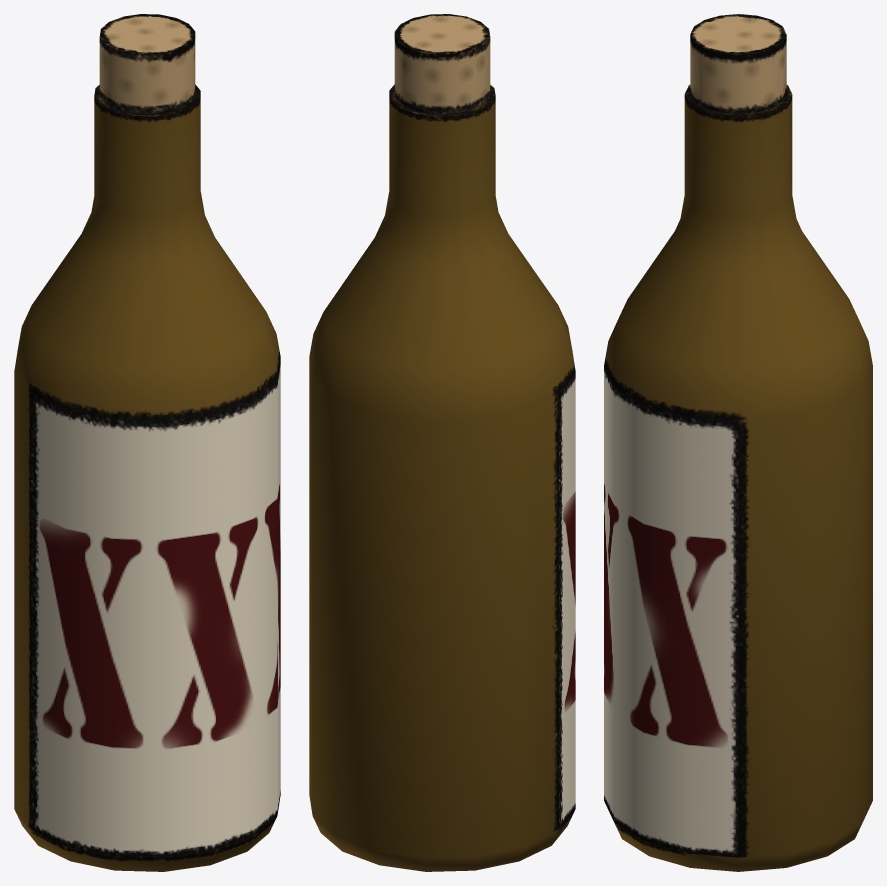
Rendered from bottle.fbx.
The picture shows the model from 3 angles, left to right: view 1: azimuth 30°, elevation 25°; view 2: azimuth 150°, elevation 25°; view 3: azimuth 270°, elevation 25°; orthographic projection.
Parts seen in each view (by area): view 1: bottle; view 2: bottle; view 3: bottle.
Boxes of the visible parts, <box> form: bottle: <box>14,14,280,871</box>; bottle: <box>309,14,575,871</box>; bottle: <box>604,14,872,871</box>.
Bounding box in the file's own units: 200 × 650 × 200.
